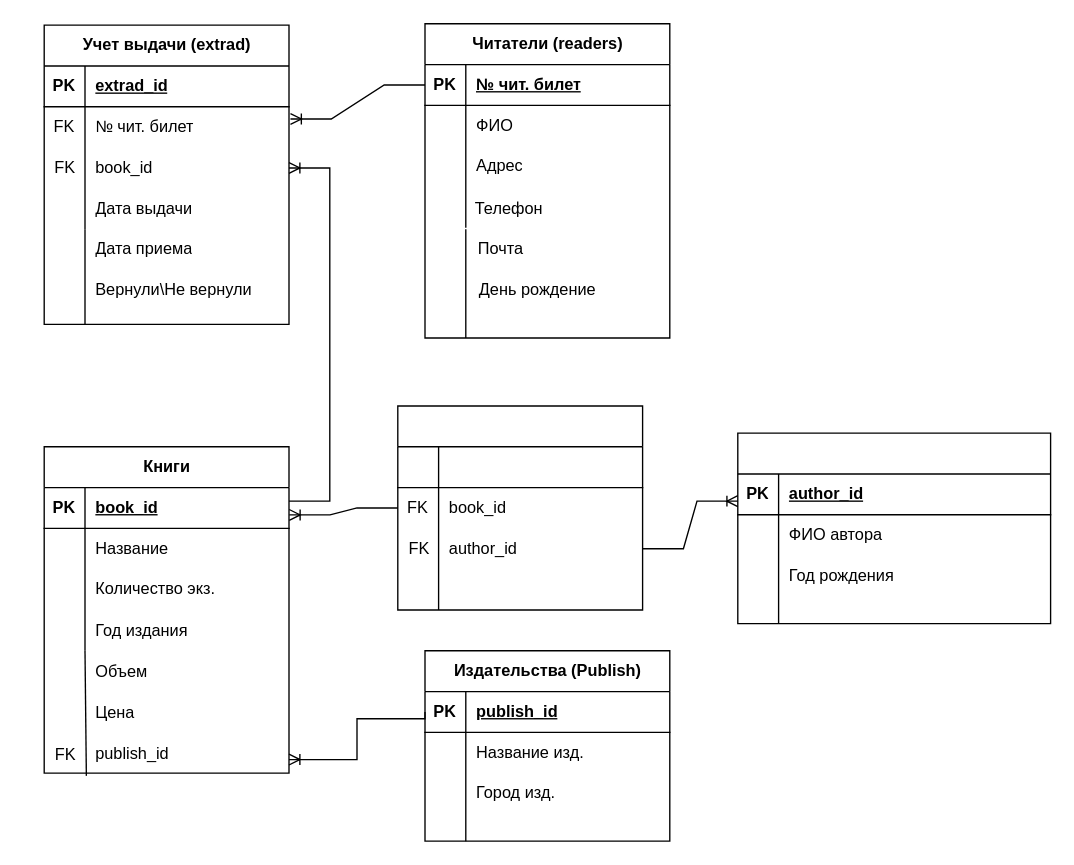
The diagram is 1074 pixels wide and 865 high, and some of its shapes have lost their labels. Here are the shapes that lost their labels. From the top down, the box of each, then its label:
(396, 405, 643, 610): AuthorBook
(736, 432, 1051, 624): Автор (Author)
